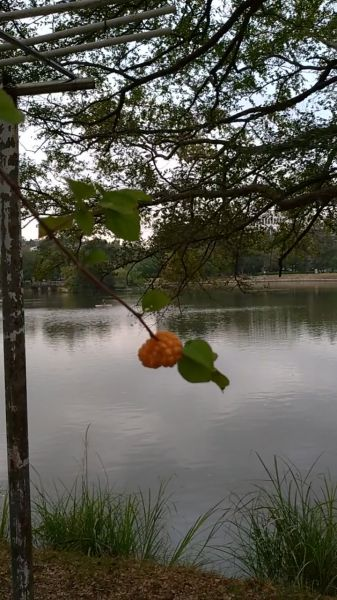eggs: (135, 329, 186, 372)
